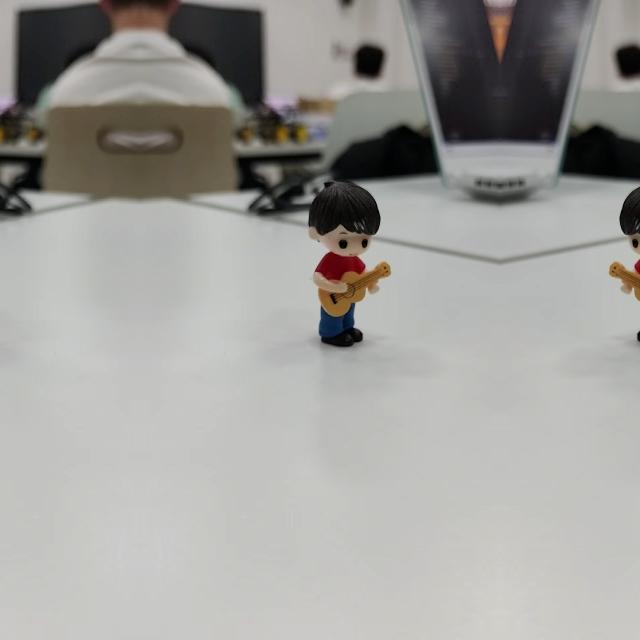man cloth: (312, 249, 368, 281), (632, 249, 640, 281)
man head: (310, 178, 382, 258), (617, 177, 640, 258)
trousers: (318, 300, 366, 350), (634, 300, 640, 349)
